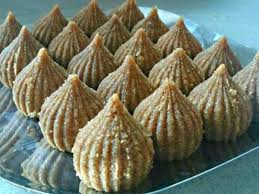modak: (40, 8, 249, 80), (78, 99, 152, 185), (41, 72, 107, 158), (143, 85, 209, 157), (199, 71, 254, 138), (19, 47, 62, 113), (6, 22, 39, 76)
